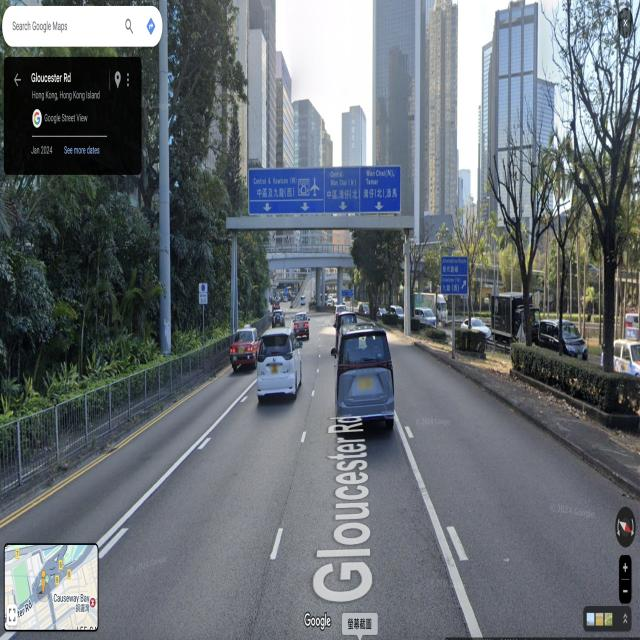Direction-Sign: (249, 165, 402, 214), (441, 256, 468, 294), (342, 290, 354, 296)
Order-Sign: (199, 283, 207, 304)
